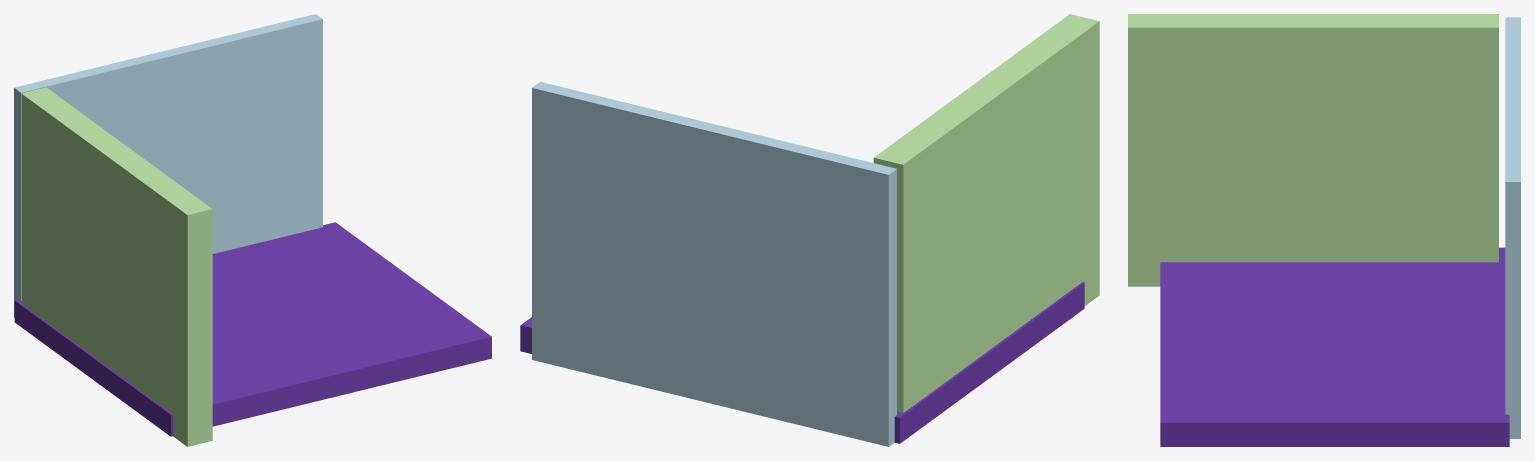
Rendered from prueba.glb.
3 views of the same model, side by side, from view 1: azimuth 30°, elevation 25°; view 2: azimuth 150°, elevation 25°; view 3: azimuth 270°, elevation 25° (orthographic). The views are drawn at different scales.
Visible parts, largest first — view 1: Box001, Box003, Box002; view 2: Box002, Box001, Box003; view 3: Box001, Box003, Box002.
Part boxes in pixels (box(x1,y1,x2,y2)): Box001: box(21, 87, 212, 446); Box003: box(14, 222, 491, 436); Box002: box(14, 14, 322, 317); Box002: box(532, 81, 896, 446); Box001: box(873, 14, 1099, 412); Box003: box(520, 282, 1084, 443); Box001: box(1128, 14, 1498, 286); Box003: box(1160, 247, 1509, 446); Box002: box(1505, 17, 1520, 438).
Bounding box in the file's own units: 0.3989 × 0.2755 × 0.3786.
